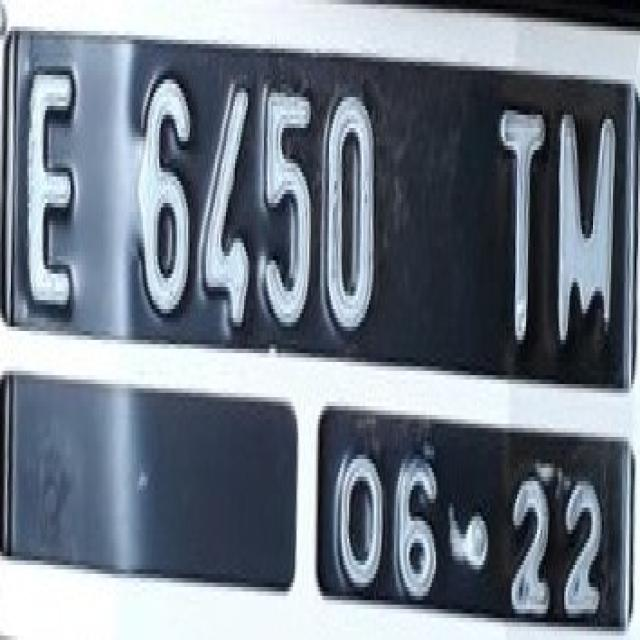plate: (6, 22, 638, 631)
